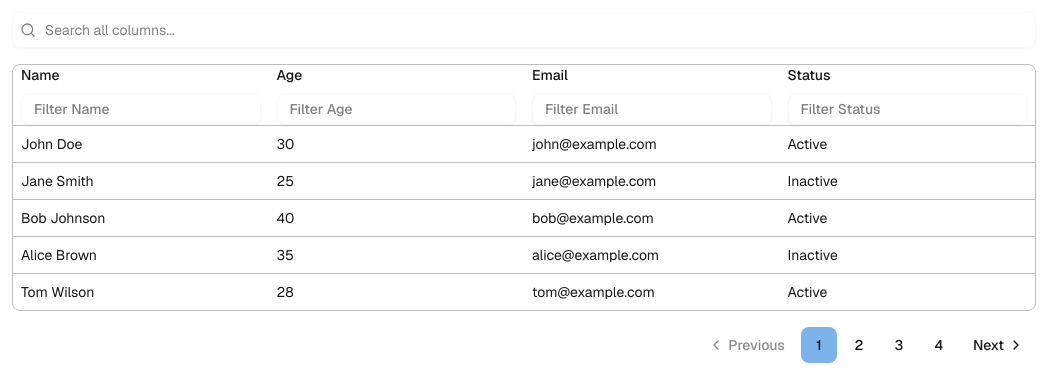
Test: DynamicTable › enables pagination when specified
The image size is (1048, 380).
Expected: the link "1" is shown, x1=801 y1=327 x2=837 y2=363
Expected: the link "4" is shown, x1=934 y1=336 x2=943 y2=354
Note: Go to next page
Step 1. Click the link "2" → x=859, y=345, box x1=854 y1=336 x2=863 y2=354
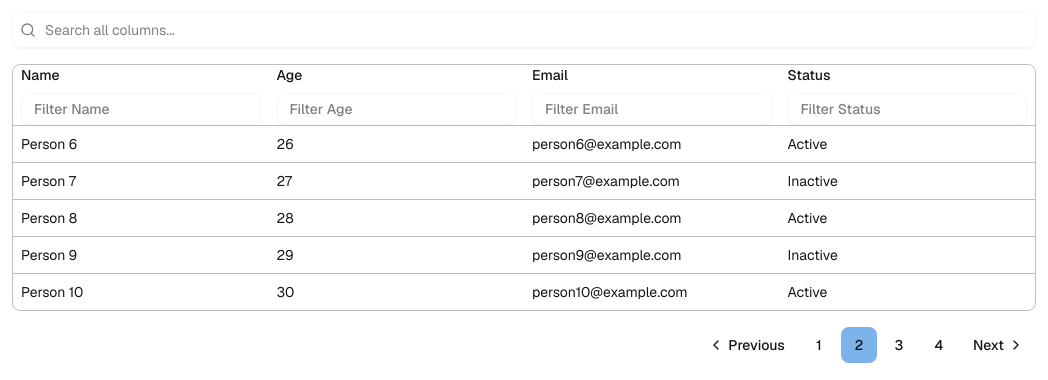
Now the text "John Doe" is gone
Now the text "Person 6" is shown, box x1=13 y1=126 x2=268 y2=162
